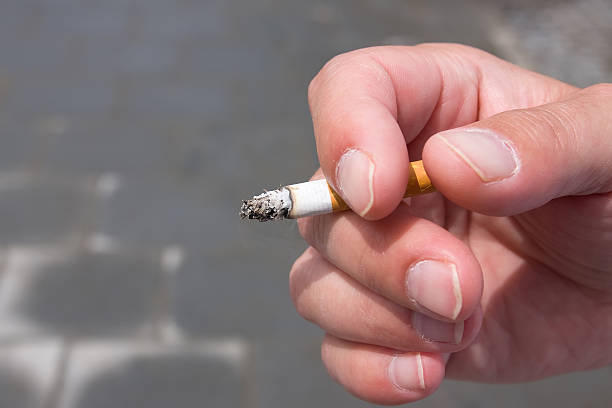cigarette: (242, 158, 434, 220)
